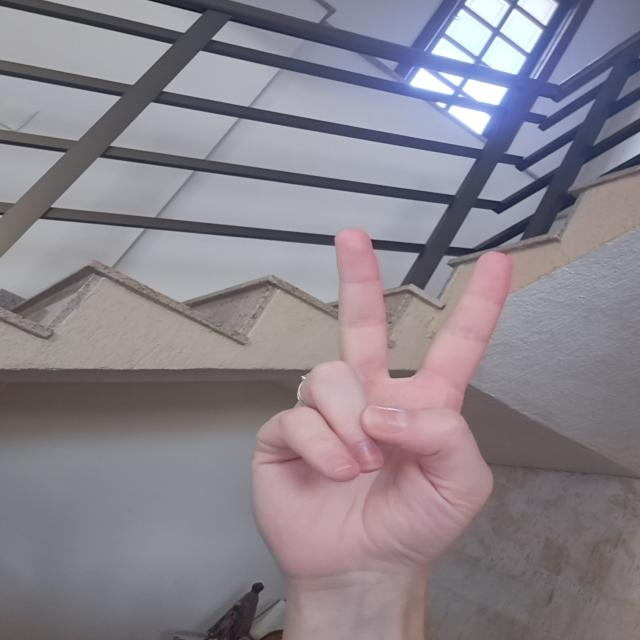V: (238, 222, 528, 588)
